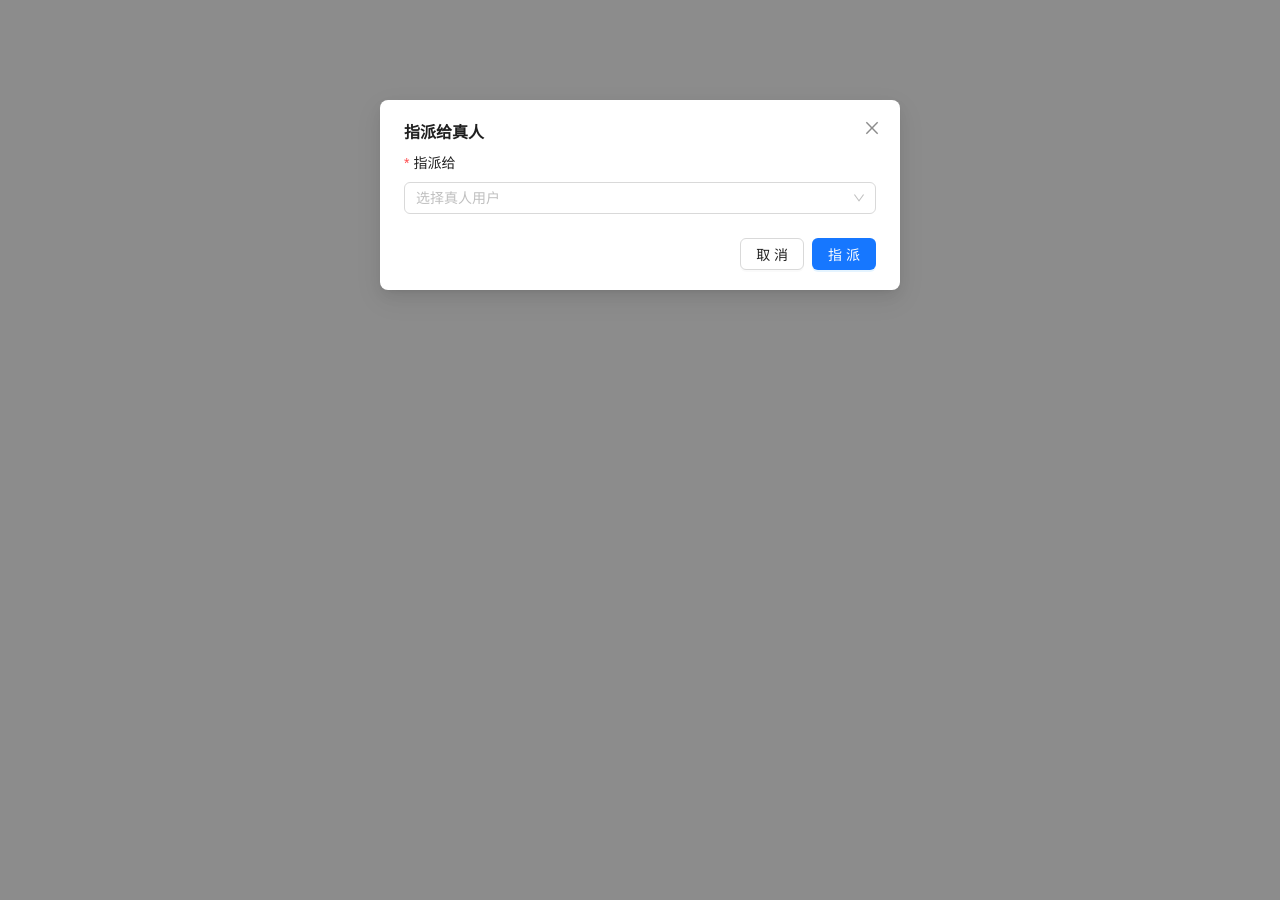
it: AssignHumanModal › lists only human candidates, excluding agents
The width and height of the screenshot is (1280, 900).
Click the dropdown labelled "指派给" at (631, 198), box x1=416 y1=183 x2=846 y2=213
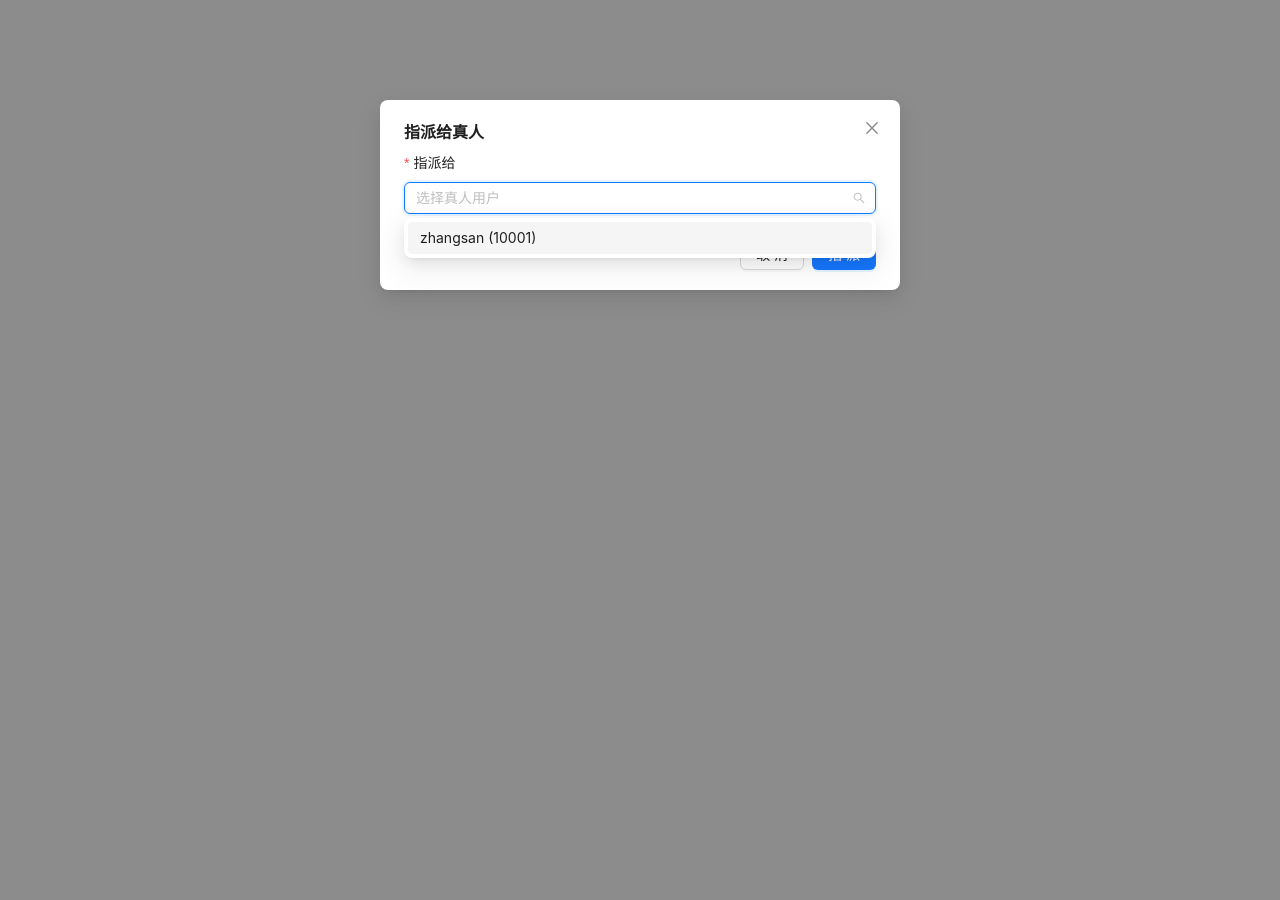
Check: the text "zhangsan (10001)" is shown, box x1=420 y1=229 x2=536 y2=246
